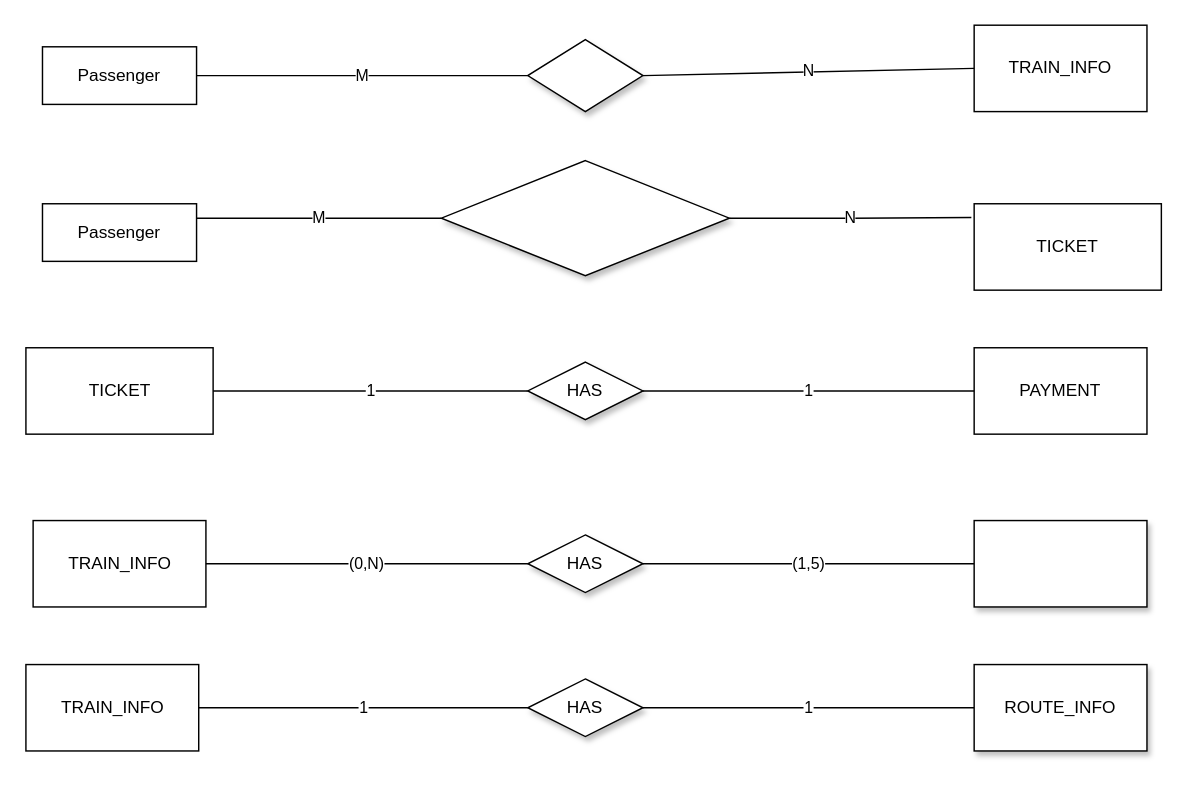
This 1187x786 diagram has some shape labels left out. Each missing label, with the centre of its shape:
BOOKS/CANCELS: the point at 586,219
checks: the point at 586,77
COMPARTMENT: the point at 1061,565
